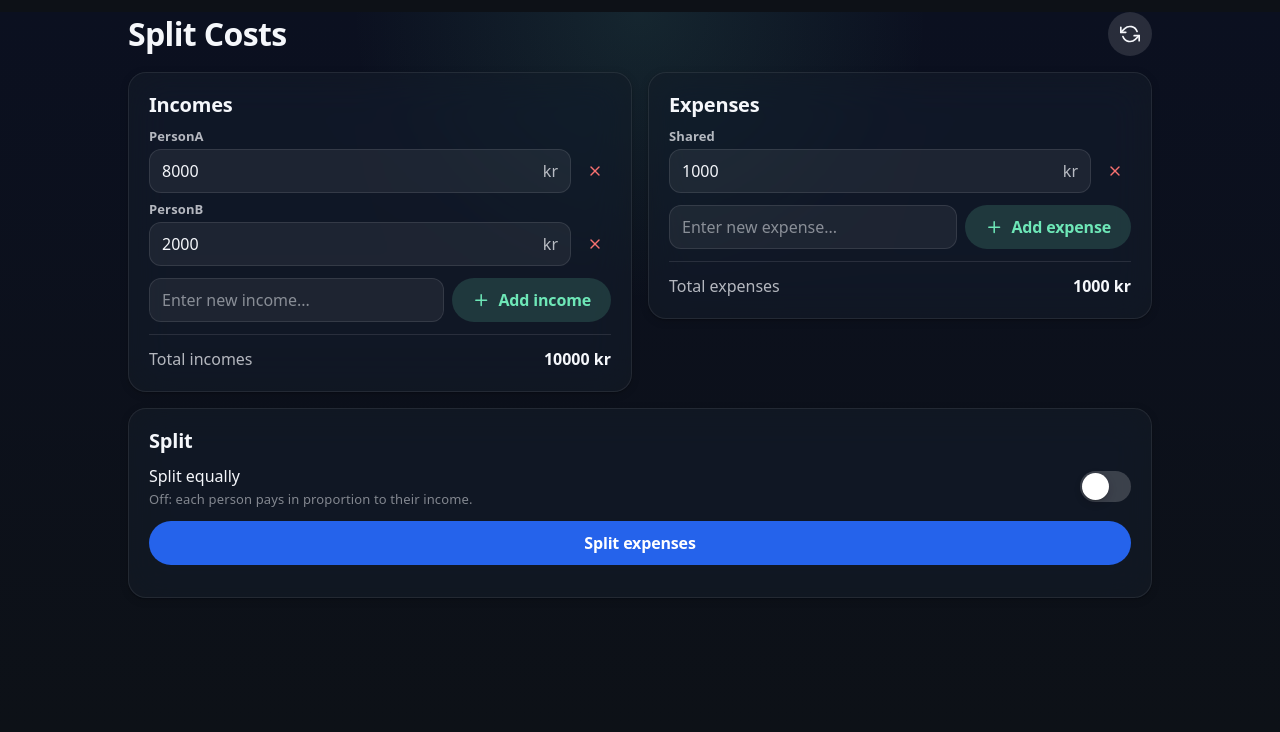
CostCalculator › splitting › splits equally when the switch is on, and updates live
Click the button "Split expenses" at (640, 543), box [149, 521, 1131, 565]
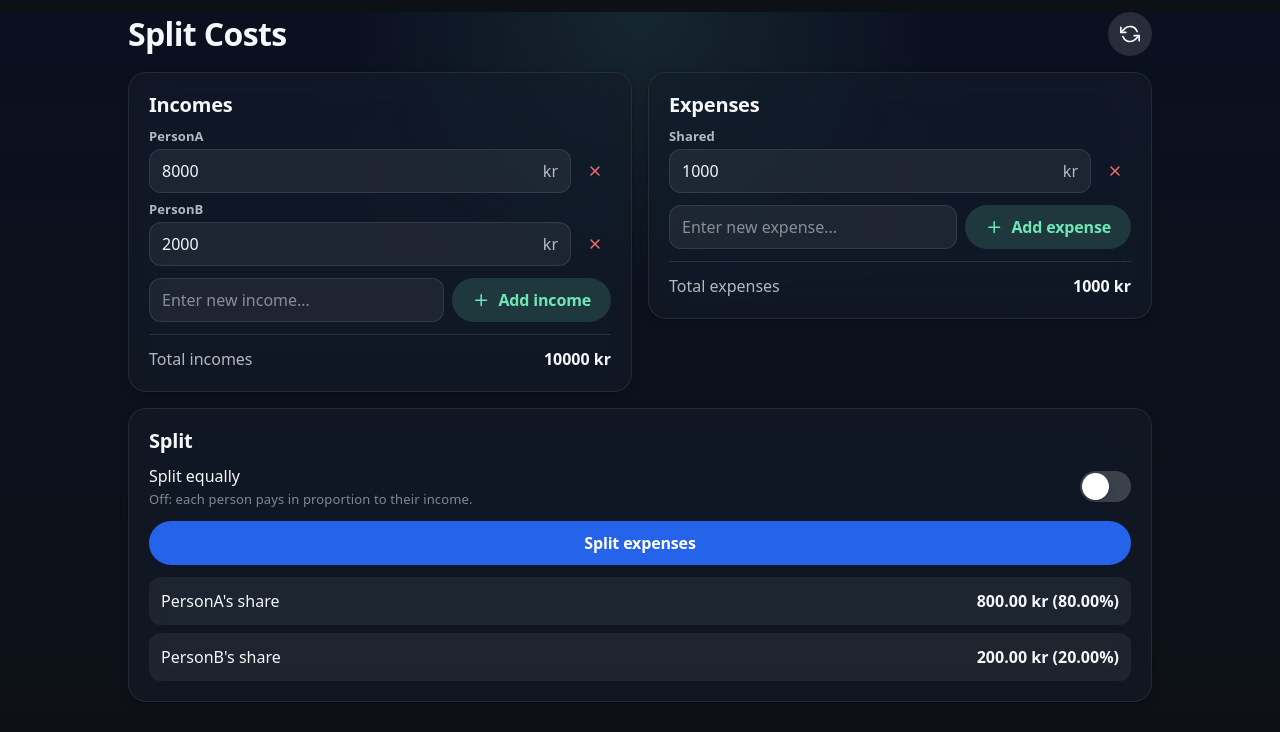
Check: the list item "PersonA's share 800.00 kr (80.00%)" is shown, box [149, 577, 1131, 625]
Click the switch named "Split equally" at (1106, 486), box [1080, 471, 1131, 502]
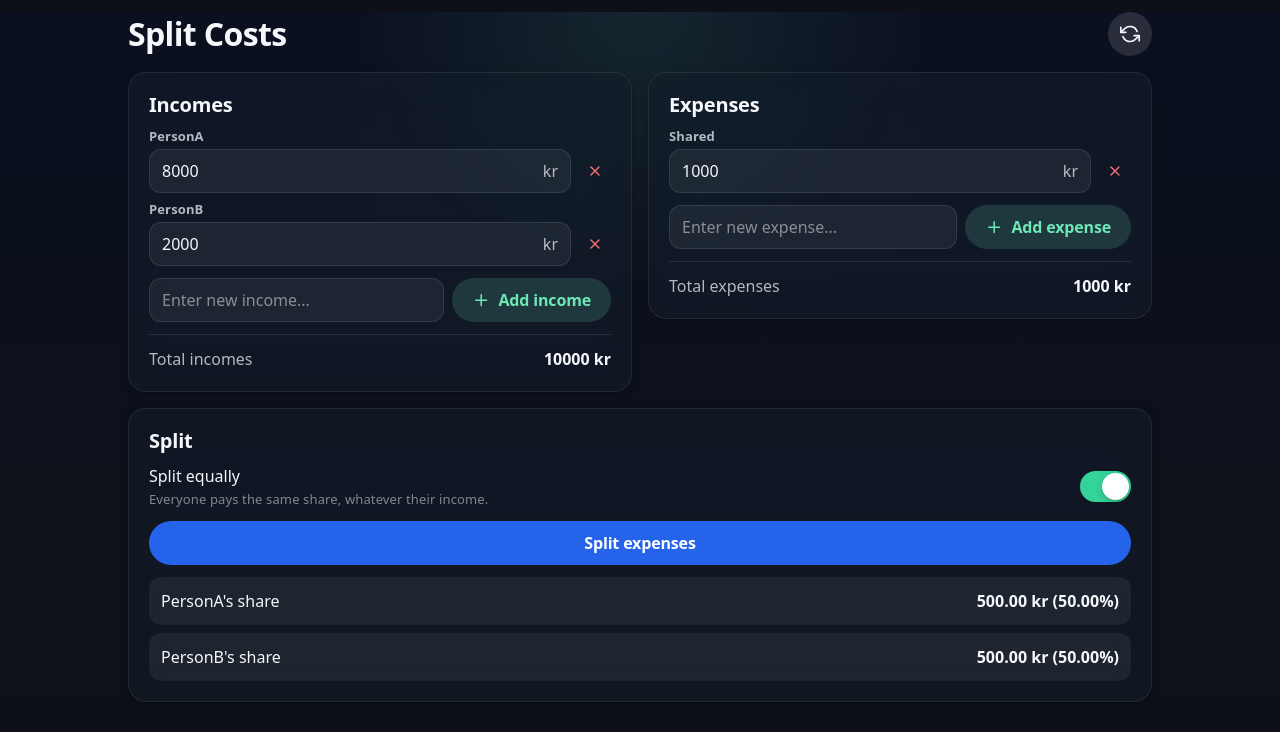
Check: the list item "PersonA's share 500.00 kr (50.00%)" is shown, box [149, 577, 1131, 625]
Check: the list item "PersonB's share 500.00 kr (50.00%)" is shown, box [149, 633, 1131, 681]
